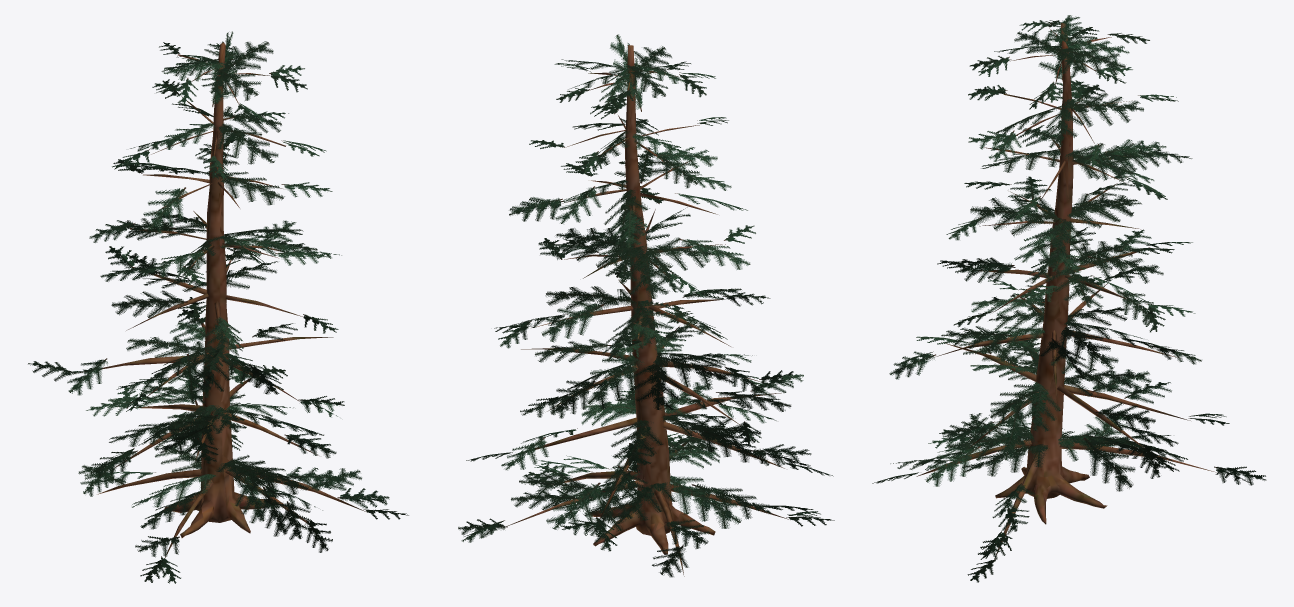
File: tree_pine_lod1.glb
3 renders of one model, left to right at view 1: azimuth 30°, elevation 25°; view 2: azimuth 150°, elevation 25°; view 3: azimuth 270°, elevation 25°, orthographic. The views are drawn at different scales.
Visible parts, largest first — view 1: tree_pine_lod1; view 2: tree_pine_lod1; view 3: tree_pine_lod1.
Part boxes in pixels (left/top/right/bottom): tree_pine_lod1: left=28, top=31, right=408, bottom=583; tree_pine_lod1: left=458, top=34, right=834, bottom=577; tree_pine_lod1: left=872, top=15, right=1266, bottom=582.
Size of the model in its own units: 4.81 by 6.76 by 5.01.
Materials: 2 (2 with a texture image).
